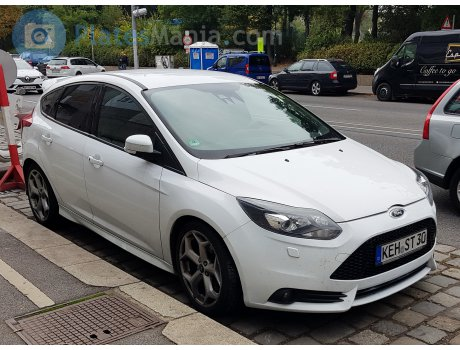License Plates: (383, 229, 424, 257)
